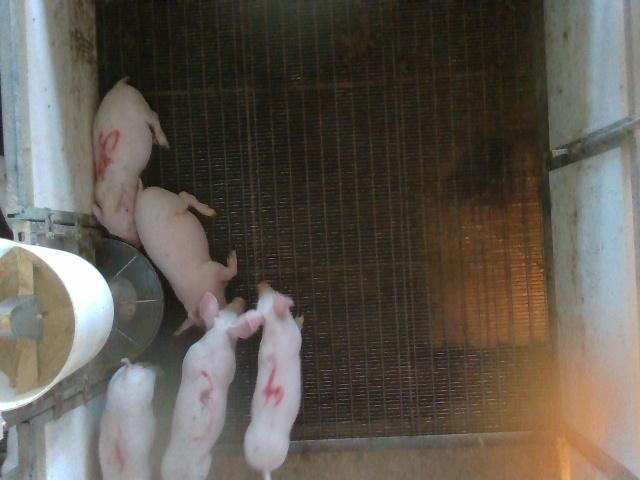pig-1: (99, 359, 156, 478)
pig-3: (161, 292, 252, 479)
pig-4: (245, 283, 303, 479)
pig-5: (91, 78, 169, 246)
